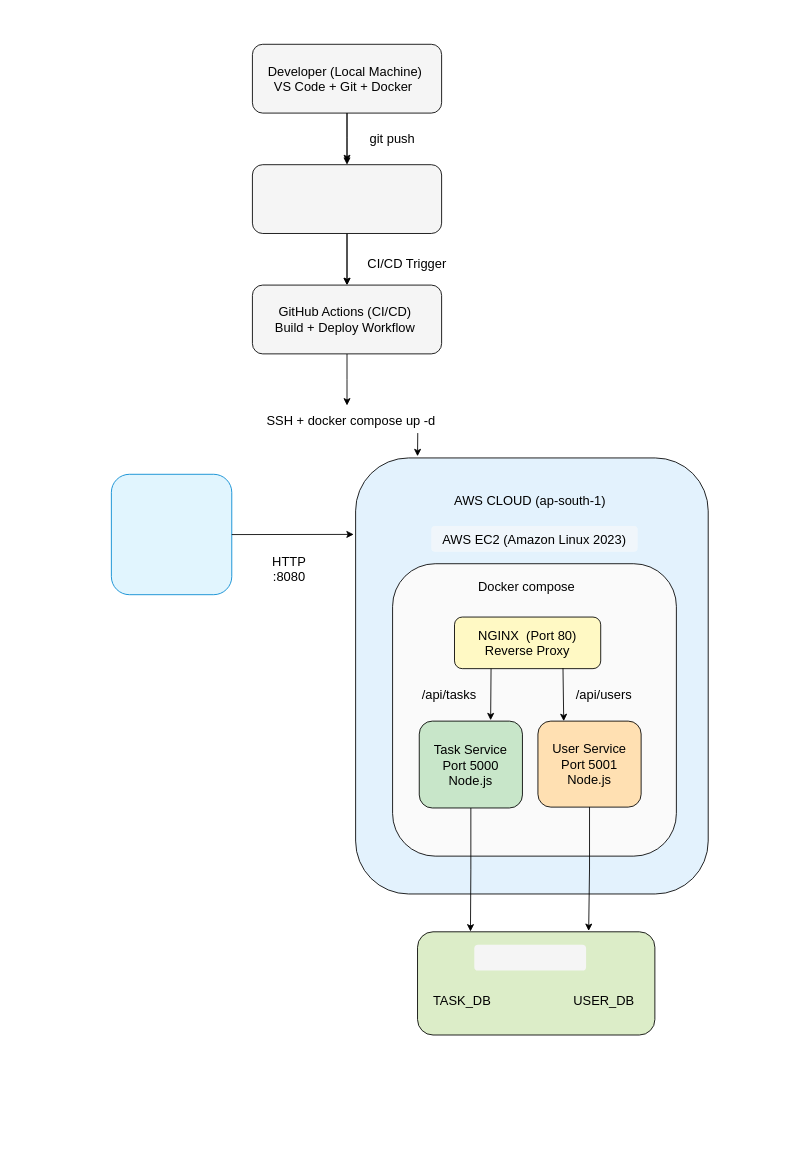
Some shapes in this 799 by 1153 pixel diagram are drawn without their labels. Here are the shapes that lost their labels. From the top down, the box of each, then its label:
(252, 164, 442, 233): GitHub Repository
(111, 473, 232, 595): User (Browser)
(474, 944, 586, 970): MongoDB Atlas
